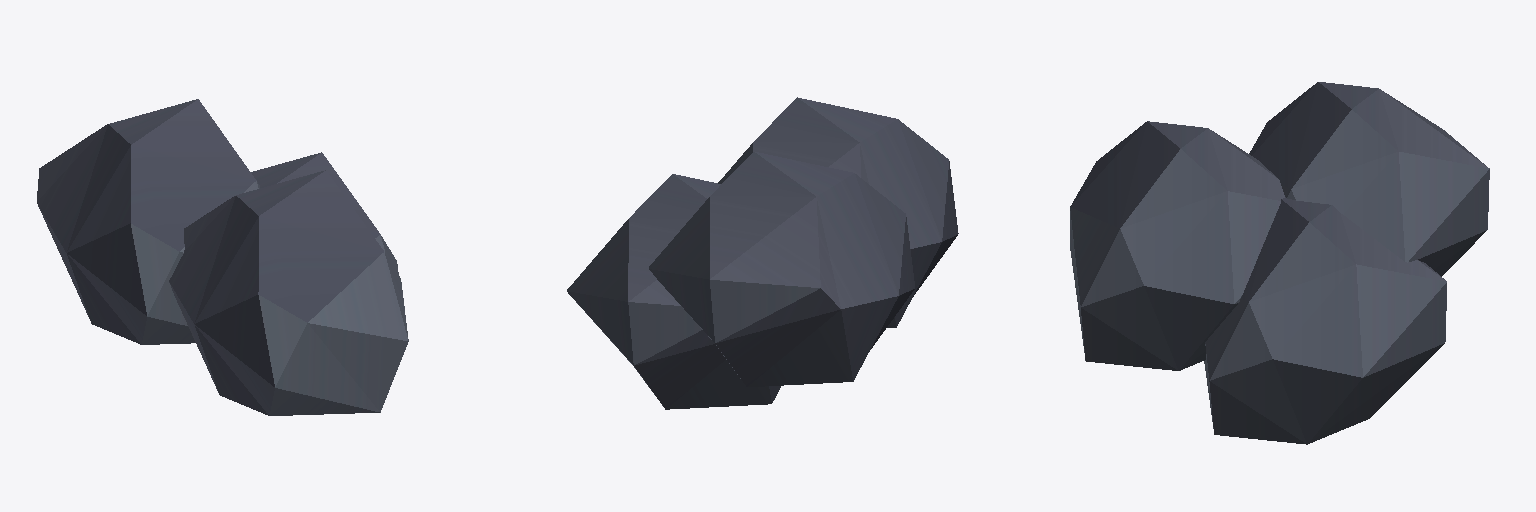
3 views of the same model, side by side, from view 1: azimuth 30°, elevation 25°; view 2: azimuth 150°, elevation 25°; view 3: azimuth 270°, elevation 25° (orthographic).
Parts seen in each view (by area): view 1: polySurface664; view 2: polySurface664; view 3: polySurface664.
Part boxes in pixels (bbox=[...]): polySurface664: bbox=[37, 99, 408, 415]; polySurface664: bbox=[567, 97, 958, 409]; polySurface664: bbox=[1070, 82, 1489, 444].
Size of the model in its own units: 1.17 by 0.9533 by 1.33.
3 materials, 1 textured.